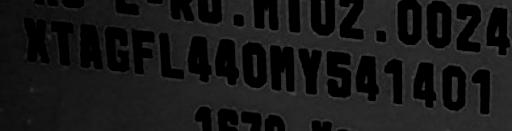letter: (408, 57, 444, 108), (322, 49, 354, 100), (212, 37, 242, 88), (240, 38, 270, 89), (468, 65, 498, 116), (269, 41, 297, 94), (183, 34, 213, 83), (440, 62, 470, 111), (24, 14, 52, 66), (48, 18, 78, 66), (296, 44, 324, 95), (353, 51, 381, 102), (381, 55, 409, 106), (102, 25, 130, 72), (77, 20, 103, 69), (158, 30, 184, 79), (130, 27, 156, 74)
